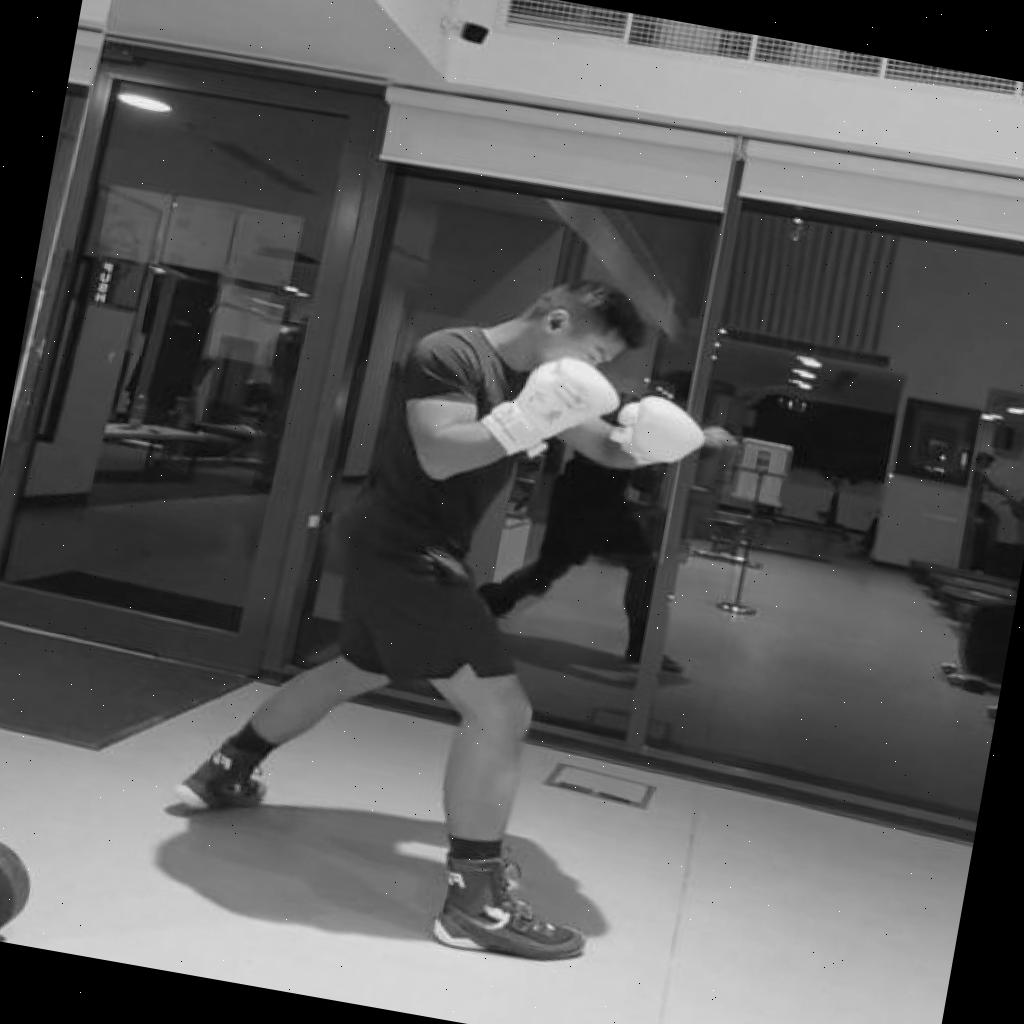no punch: (150, 223, 735, 984)
